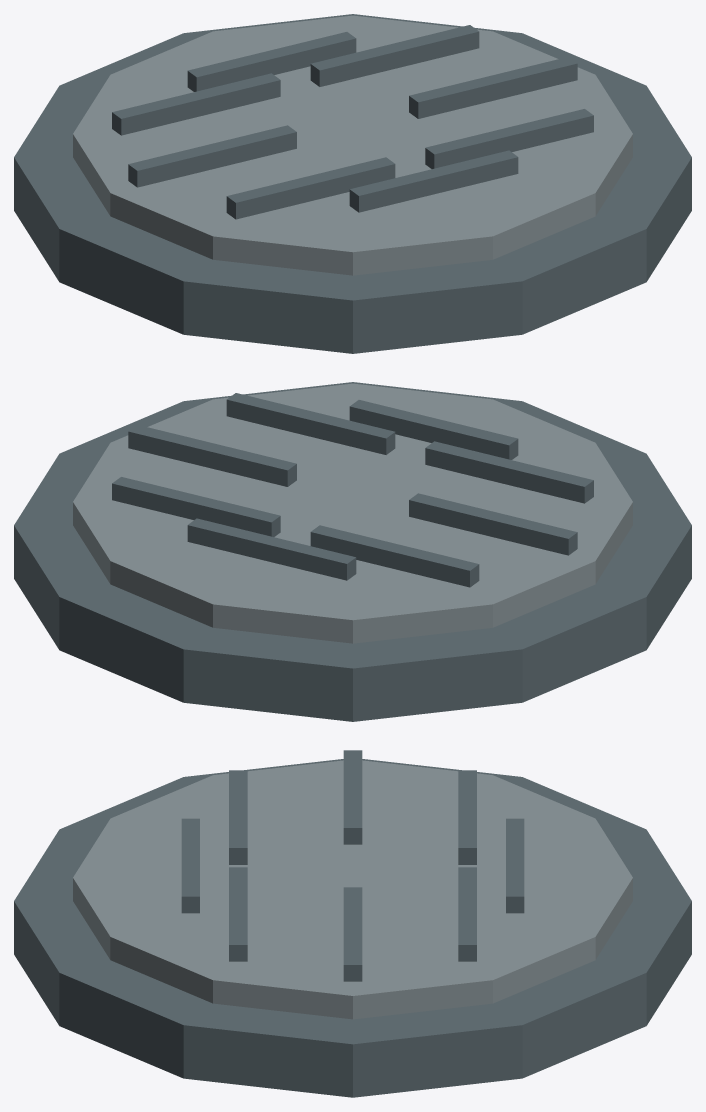
Rendered from manhole.glb.
3 views of the same model, one above another, from view 1: azimuth 30°, elevation 25°; view 2: azimuth 150°, elevation 25°; view 3: azimuth 270°, elevation 25° (orthographic).
Parts seen in each view (by area): view 1: manhole; view 2: manhole; view 3: manhole.
Part boxes in pixels (box(x1,y1,x2,y2)): manhole: box(14, 14, 691, 353); manhole: box(14, 382, 691, 721); manhole: box(14, 750, 691, 1097).
Size of the model in its own units: 0.92 by 0.145 by 0.92.
